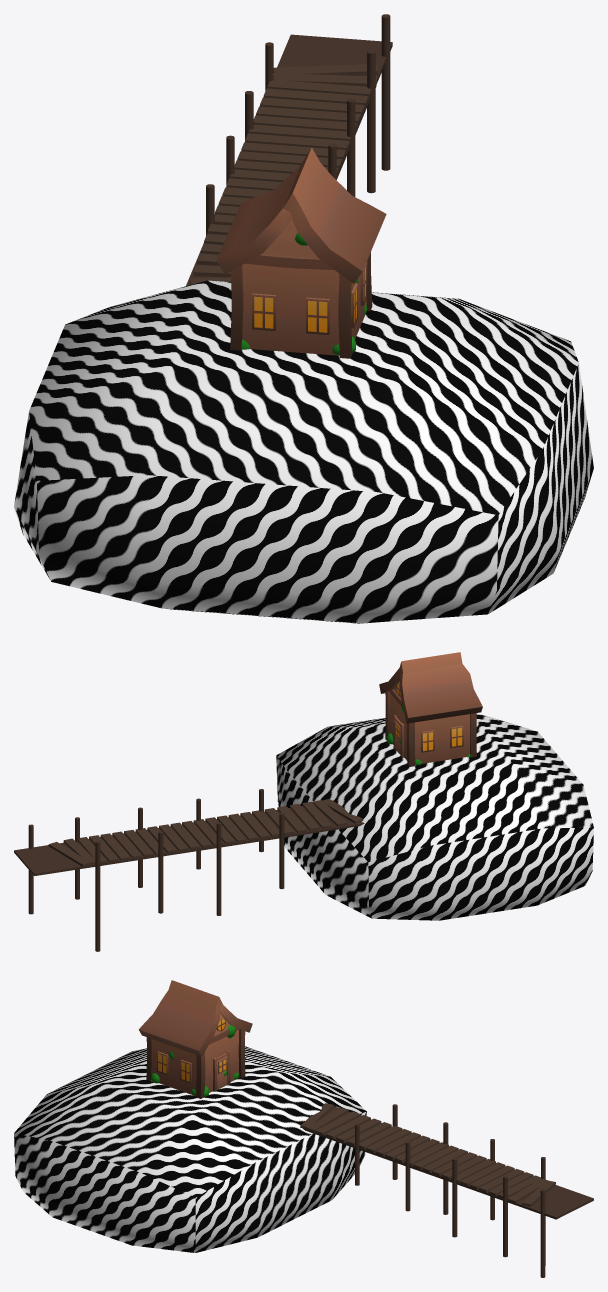
The model's file is LAND3.fbx.
The picture shows the model from 3 angles, top to bottom: view 1: azimuth 30°, elevation 25°; view 2: azimuth 150°, elevation 25°; view 3: azimuth 270°, elevation 25°; orthographic projection. The views are drawn at different scales.
Parts seen in each view (by area): view 1: land2; view 2: land2; view 3: land2.
Part boxes in pixels (x1,y1,x2,y2): land2: (14,14,593,623); land2: (14,652,593,951); land2: (14,980,593,1277).
Bounding box in the file's own units: 10749 × 5333 × 13929.
6 materials, 2 textured.
